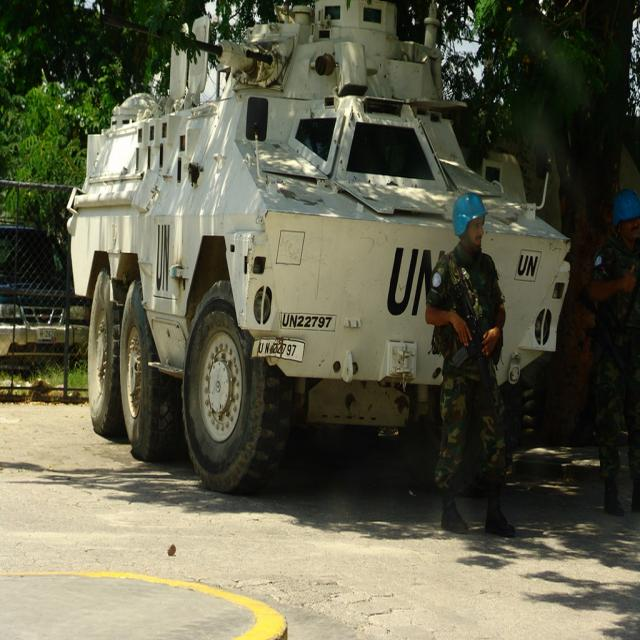tank: (64, 0, 568, 498)
